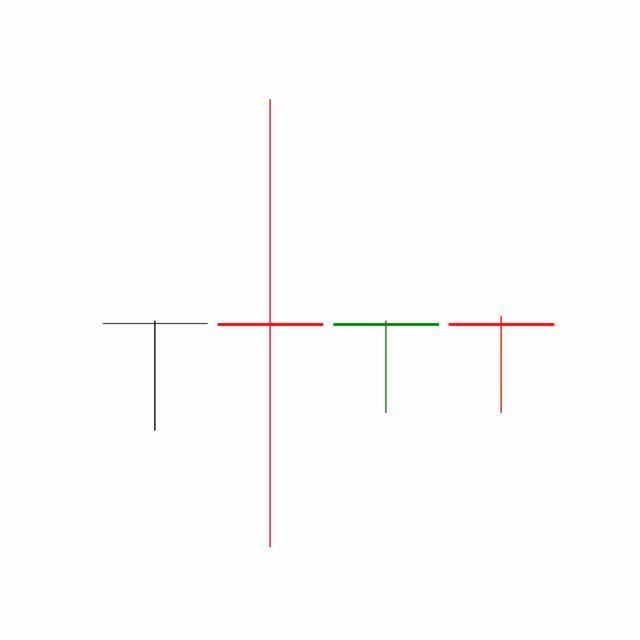Dragonfly Doji: (444, 316, 560, 416)
